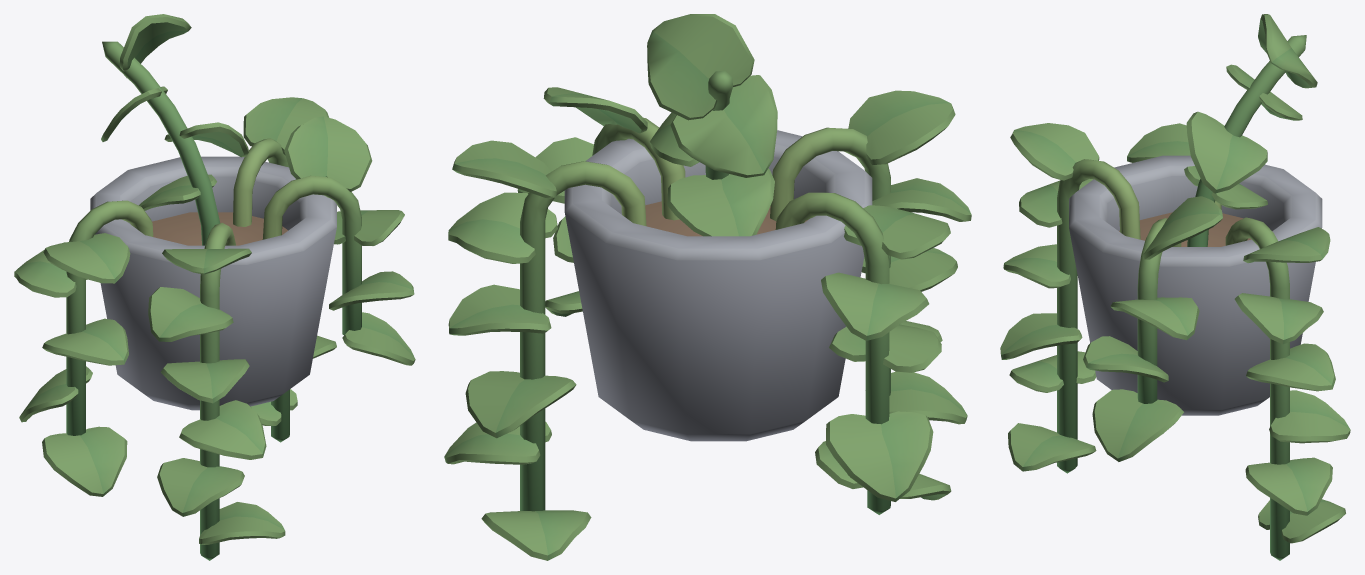
File: kit_plant_pothos.glb
3 renders of one model, left to right at view 1: azimuth 30°, elevation 25°; view 2: azimuth 150°, elevation 25°; view 3: azimuth 270°, elevation 25°, orthographic. The views are drawn at different scales.
Visible parts, largest first — view 1: pothos_plant_medium_potted; view 2: pothos_plant_medium_potted; view 3: pothos_plant_medium_potted.
Boxes of the visible parts, bbox=[...] form: pothos_plant_medium_potted: bbox=[14, 14, 415, 560]; pothos_plant_medium_potted: bbox=[444, 14, 971, 560]; pothos_plant_medium_potted: bbox=[1000, 14, 1350, 560].
Bounding box in the file's own units: 0.8131 × 1.03 × 0.6862.
1 material, 1 textured.
